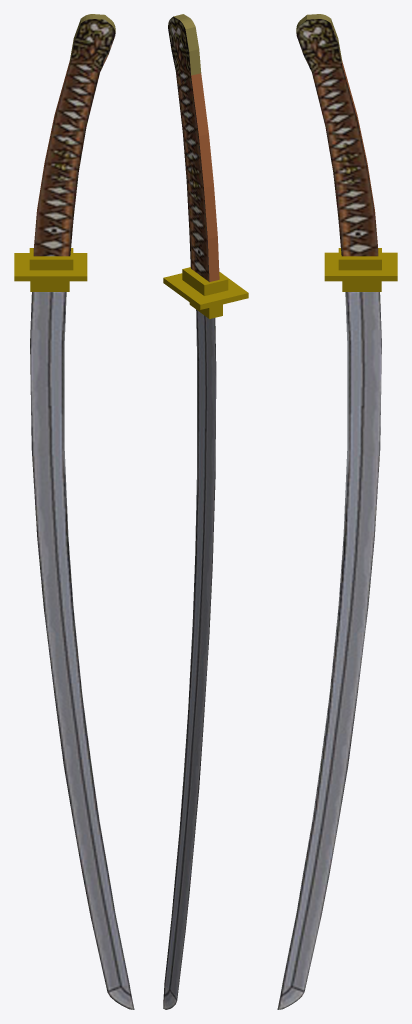
File: YCTachi.fbx
The picture shows the model from 3 angles, left to right: view 1: azimuth 90°, elevation 25°; view 2: azimuth 210°, elevation 25°; view 3: azimuth 270°, elevation 25°; orthographic projection.
Parts seen in each view (by area): view 1: Tachi; view 2: Tachi; view 3: Tachi.
Boxes of the visible parts, x1=… form: Tachi: x1=14, y1=14, x2=134, y2=1009; Tachi: x1=163, y1=14, x2=248, y2=1009; Tachi: x1=277, y1=14, x2=397, y2=1009.
Bounding box in the file's own units: 0.0423 × 0.8367 × 0.0917.
